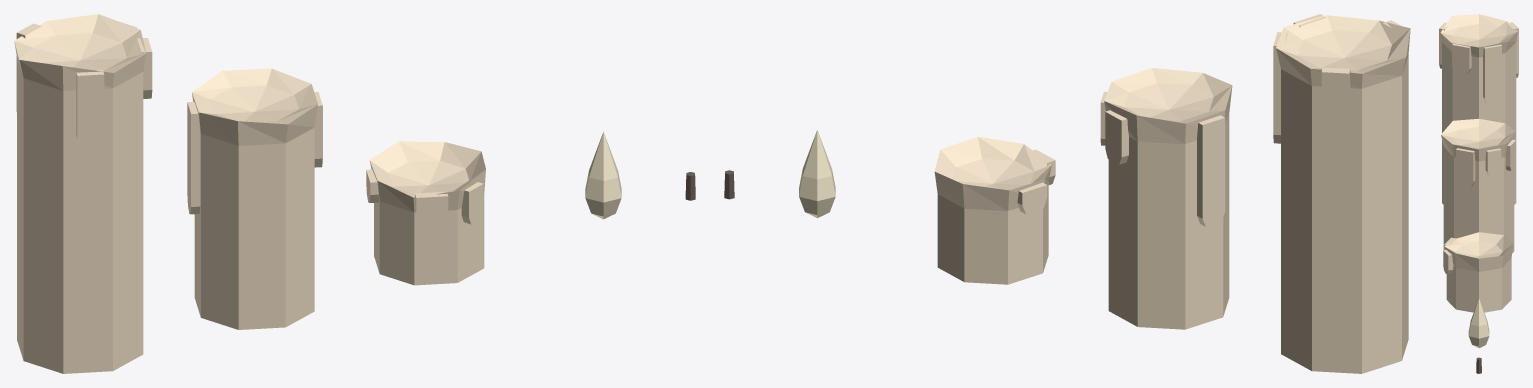
The model's file is Candles.glb.
3 renders of one model, left to right at view 1: azimuth 30°, elevation 25°; view 2: azimuth 150°, elevation 25°; view 3: azimuth 270°, elevation 25°, orthographic. The views are drawn at different scales.
Parts seen in each view (by area): view 1: CandleWaxLarge, CandleWaxMedium, CandleWaxSmall, CandleFlame; view 2: CandleWaxLarge, CandleWaxMedium, CandleWaxSmall, CandleFlame; view 3: CandleWaxLarge, CandleWaxMedium, CandleWaxSmall, CandleFlame, CandleWick.
Boxes of the visible parts, bbox=[...] form: CandleWaxLarge: bbox=[14, 14, 152, 373]; CandleWaxMedium: bbox=[187, 68, 322, 329]; CandleWaxSmall: bbox=[366, 141, 485, 285]; CandleFlame: bbox=[585, 131, 621, 219]; CandleWaxLarge: bbox=[1273, 14, 1410, 373]; CandleWaxMedium: bbox=[1100, 68, 1232, 329]; CandleWaxSmall: bbox=[934, 136, 1055, 284]; CandleFlame: bbox=[799, 130, 835, 218]; CandleWaxLarge: bbox=[1439, 14, 1518, 204]; CandleWaxMedium: bbox=[1441, 118, 1516, 252]; CandleWaxSmall: bbox=[1443, 232, 1513, 312]; CandleFlame: bbox=[1468, 298, 1489, 347]; CandleWick: bbox=[1476, 357, 1481, 373].
Size of the model in its own units: 4.65 by 2.03 by 0.834.
